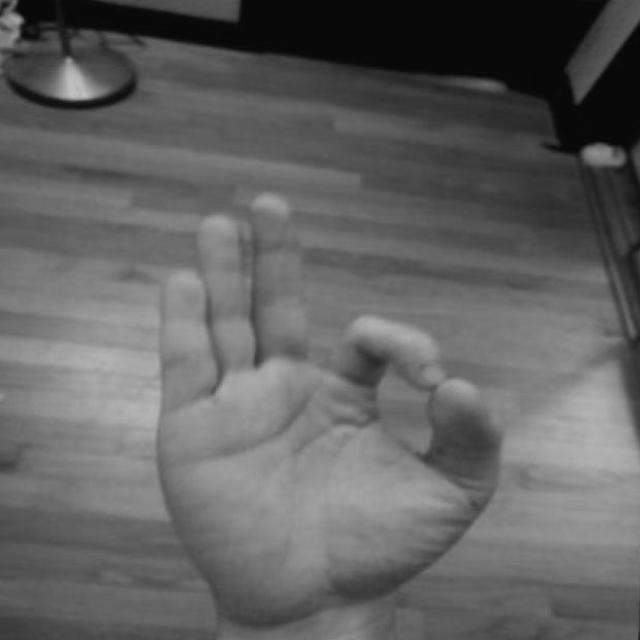F: (84, 174, 513, 631)
